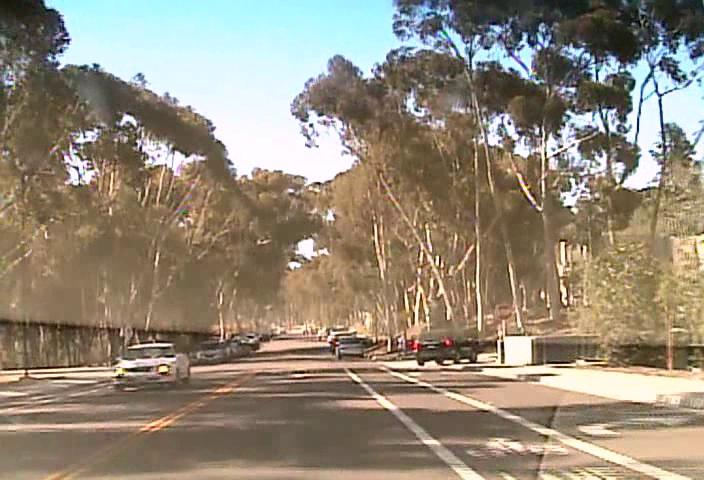stop: (493, 302, 512, 321)
